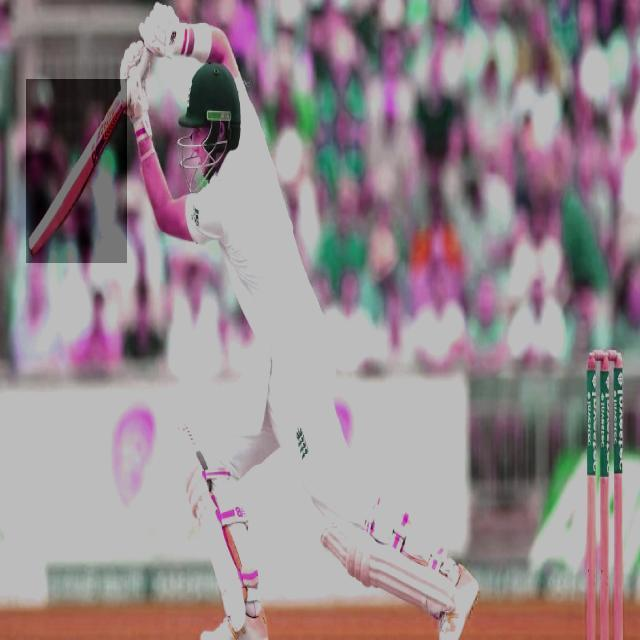bat: (29, 76, 124, 262)
